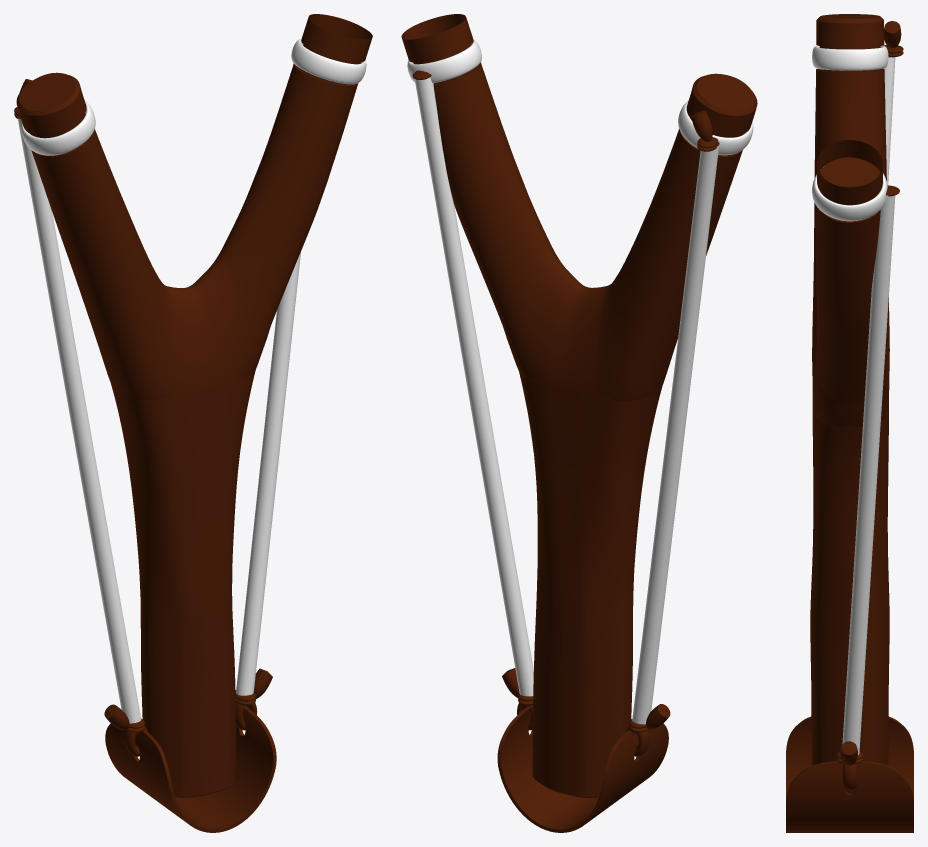
The model's file is tetera.FBX.
3 views of the same model, side by side, from view 1: azimuth 30°, elevation 25°; view 2: azimuth 150°, elevation 25°; view 3: azimuth 270°, elevation 25° (orthographic).
Parts seen in each view (by area): view 1: Body3_1, Body29, Body30, Body9_2, Body9_1, Body1_8, Body1_9, Body3_2, Body3_3, Body3_4, Body3_5, Body31 (+7 smaller); view 2: Body31, Body3_1, Body9_1, Body9_2, Body1_8, Body1_9, Body3_2, Body3_3, Body3_4, Body3_5, Body15, Body30 (+6 smaller); view 3: Body3_1, Body9_1, Body1_9, Body31, Body29, Body30, Body1_8, Body14_2, Body14_1, Body15, Body3_5, Body3_4 (+11 smaller).
Boxes of the visible parts, x1,y1,x2,y2 form: Body3_1: [127, 453, 239, 796]; Body29: [35, 84, 357, 400]; Body30: [80, 69, 338, 362]; Body9_2: [18, 118, 141, 723]; Body9_1: [236, 252, 300, 695]; Body1_8: [175, 707, 273, 829]; Body1_9: [105, 723, 186, 822]; Body3_2: [111, 370, 255, 419]; Body3_3: [116, 392, 250, 437]; Body3_4: [120, 413, 246, 456]; Body3_5: [123, 433, 242, 474]; Body31: [31, 63, 297, 391]; Body31: [433, 69, 739, 401]; Body3_1: [532, 454, 646, 796]; Body9_1: [414, 71, 533, 696]; Body9_2: [632, 145, 719, 724]; Body1_8: [500, 707, 598, 829]; Body1_9: [500, 723, 668, 823]; Body3_2: [519, 372, 662, 419]; Body3_3: [524, 393, 658, 438]; Body3_4: [528, 414, 653, 456]; Body3_5: [531, 433, 649, 475]; Body15: [401, 23, 468, 62]; Body30: [476, 64, 609, 288]; Body3_1: [810, 471, 889, 820]; Body9_1: [842, 185, 895, 754]; Body1_9: [786, 723, 913, 832]; Body31: [850, 70, 889, 426]; Body29: [812, 88, 849, 426]; Body30: [815, 70, 849, 345]; Body1_8: [786, 718, 913, 799]; Body14_2: [812, 45, 888, 70]; Body14_1: [812, 166, 887, 221]; Body15: [850, 140, 882, 204]; Body3_5: [813, 450, 888, 496]; Body3_4: [812, 429, 888, 478].
Size of the model in its own units: 71.35 by 150 by 23.06.
